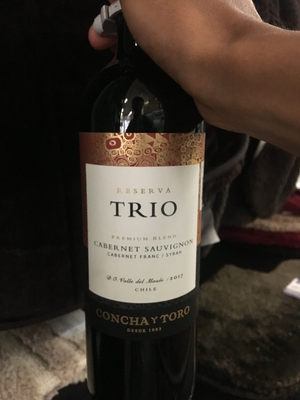trio cabernet sauvignon: (67, 19, 233, 384)
